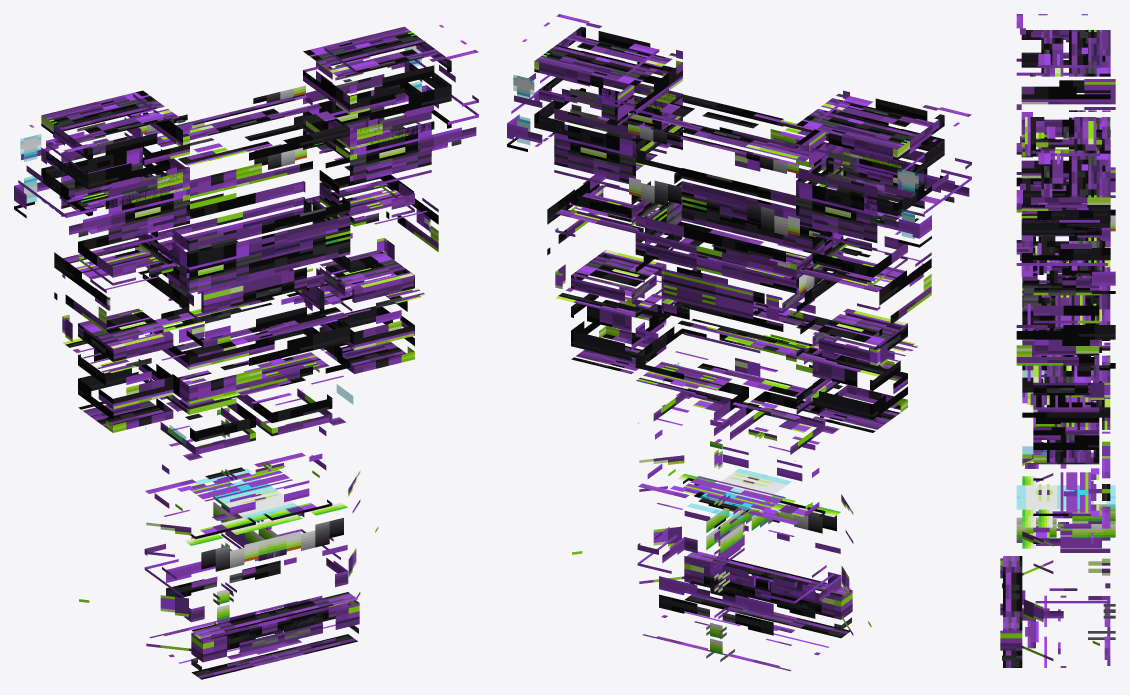
File: sl_mech_armor.glb
3 views of the same model, side by side, from view 1: azimuth 30°, elevation 25°; view 2: azimuth 150°, elevation 25°; view 3: azimuth 270°, elevation 25° (orthographic). The views are drawn at different scales.
Visible parts, largest first — view 1: bb_mech_armor; view 2: bb_mech_armor; view 3: bb_mech_armor.
Boxes of the visible parts, x1,y1,x2,y2 form: bb_mech_armor: (14,25,478,679); bb_mech_armor: (507,14,971,671); bb_mech_armor: (1000,14,1115,667).
Size of the model in its own units: 1.28 by 1.66 by 0.3281.
1 material, 1 textured.
